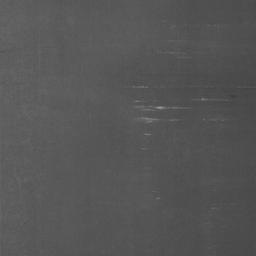Waist folding: (134, 99, 225, 125), (192, 94, 236, 103), (131, 84, 192, 90), (172, 23, 228, 28), (157, 50, 185, 56), (238, 85, 256, 89)
